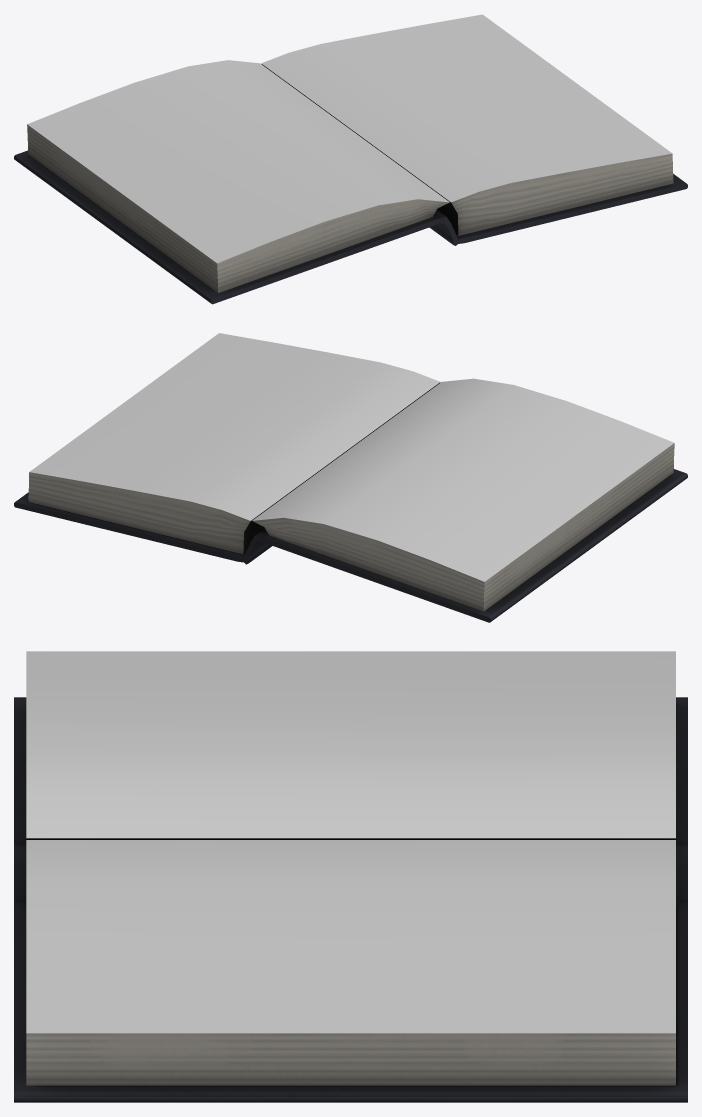
The model's file is Book2.fbx.
The picture shows the model from 3 angles, top to bottom: view 1: azimuth 30°, elevation 25°; view 2: azimuth 150°, elevation 25°; view 3: azimuth 270°, elevation 25°; orthographic projection. The views are drawn at different scales.
Parts seen in each view (by area): view 1: book_a_open_1; view 2: book_a_open_1; view 3: book_a_open_1.
Part boxes in pixels (box(x1,y1,x2,y2)): book_a_open_1: box(14, 14, 687, 304); book_a_open_1: box(14, 333, 687, 622); book_a_open_1: box(14, 651, 687, 1102).
Size of the model in its own units: 60.39 by 6.78 by 43.23.
